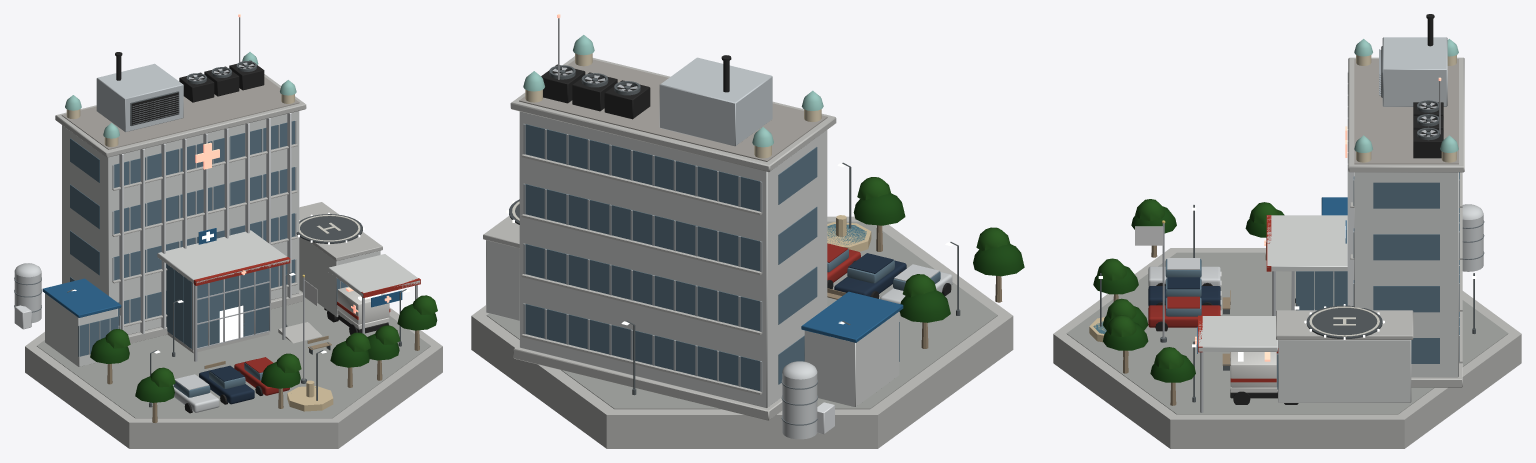
The model's file is hospital_arab.glb.
The picture shows the model from 3 angles, left to right: view 1: azimuth 30°, elevation 25°; view 2: azimuth 150°, elevation 25°; view 3: azimuth 270°, elevation 25°; orthographic projection. The views are drawn at different scales.
Parts seen in each view (by area): view 1: cladding, wall_concrete, glass, pavers, paint, leaf, gravel, dark, metal, steel_dark, stone, wood (+3 smaller); view 2: cladding, wall_concrete, glass, paint, pavers, gravel, leaf, dark, steel_dark, copper, stone, plaster (+1 smaller); view 3: cladding, wall_concrete, pavers, paint, glass, leaf, gravel, dark, metal, steel_dark, copper, wood (+2 smaller).
Boxes of the visible parts, box(x1,y1,x2,y2) form: cladding: box(14, 63, 420, 366); wall_concrete: box(25, 74, 442, 448); glass: box(70, 121, 347, 397); pavers: box(37, 290, 430, 418); paint: box(14, 214, 420, 412); leaf: box(90, 295, 437, 402); gravel: box(61, 77, 299, 149); dark: box(115, 52, 388, 413); metal: box(132, 17, 417, 379); steel_dark: box(67, 61, 406, 407); stone: box(287, 380, 333, 411); wood: box(107, 330, 419, 422); cladding: box(486, 57, 899, 434); wall_concrete: box(471, 56, 1013, 448); glass: box(525, 124, 940, 391); paint: box(509, 199, 952, 439); pavers: box(486, 221, 997, 409); gravel: box(519, 59, 827, 161); leaf: box(853, 177, 1024, 322); dark: box(541, 55, 951, 298); steel_dark: box(549, 65, 960, 395); copper: box(523, 35, 823, 147); stone: box(827, 215, 871, 251); plaster: box(525, 53, 821, 158); cladding: box(1198, 37, 1459, 402); wall_concrete: box(1053, 57, 1521, 448); pavers: box(1066, 252, 1508, 414); paint: box(1148, 197, 1484, 392); glass: box(1093, 172, 1459, 389); leaf: box(1093, 199, 1284, 382); gravel: box(1354, 59, 1458, 164); dark: box(1155, 14, 1443, 404); metal: box(1162, 49, 1440, 412); steel_dark: box(1100, 46, 1475, 402); copper: box(1354, 39, 1458, 152); wood: box(1113, 238, 1266, 405).
Size of the model in its own units: 21.3 by 18.85 by 24.6.
